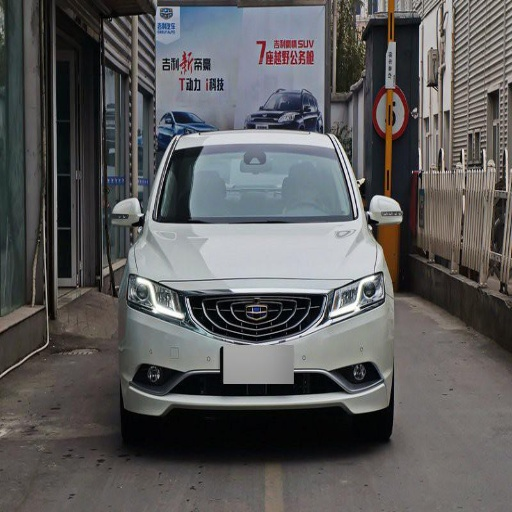front_bumper: (123, 280, 391, 416)
front_right_light: (127, 272, 185, 321)
hood: (138, 220, 377, 282)
